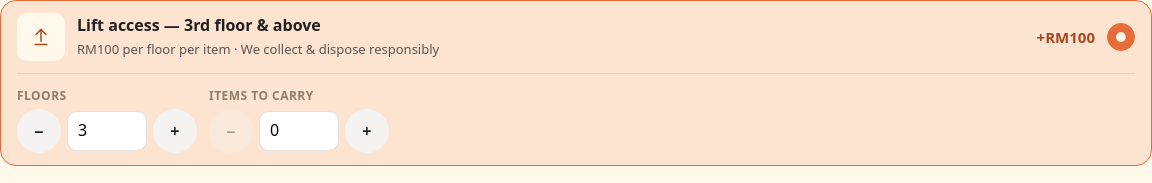
it: AddonCard steppers › items: − stops at 0, + is unbounded
Expected: the button named "Fewer items" is disabled, [209,109,253,153]
Click the button named "More items": (367, 131) [345,109,389,153]
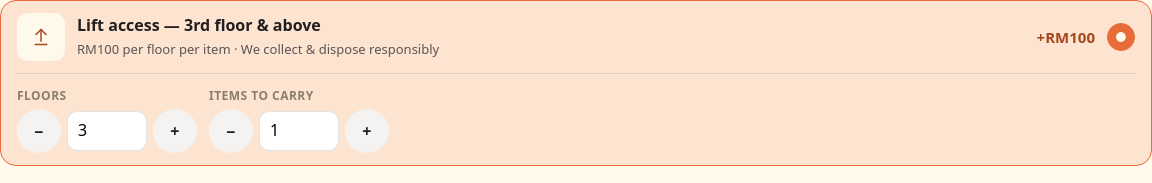
Click the button named "More items": (367, 131) [345,109,389,153]
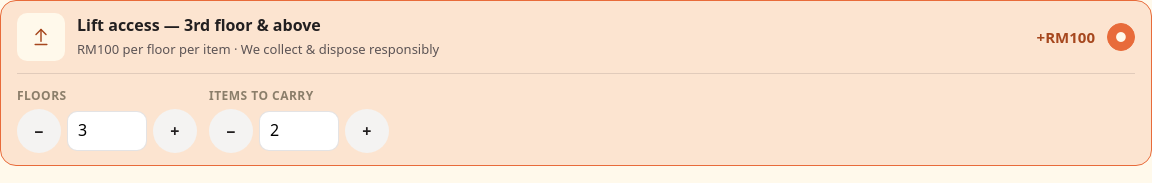
Now the number field labelled "Items to carry" holds "2", box [259,111,339,151]
Click the button named "Fewer items": (231, 131) [209,109,253,153]
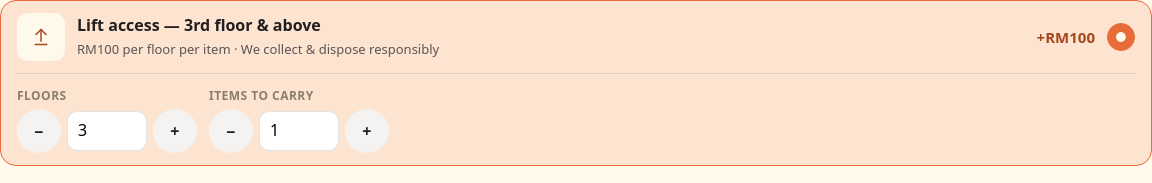
Now the number field labelled "Items to carry" holds "1", box [259,111,339,151]
